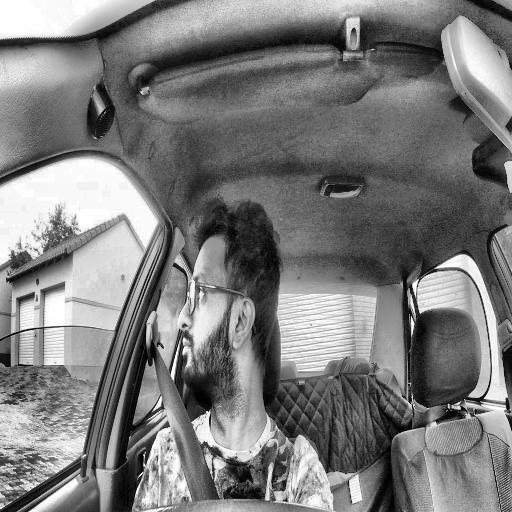awake: (178, 197, 283, 397)
